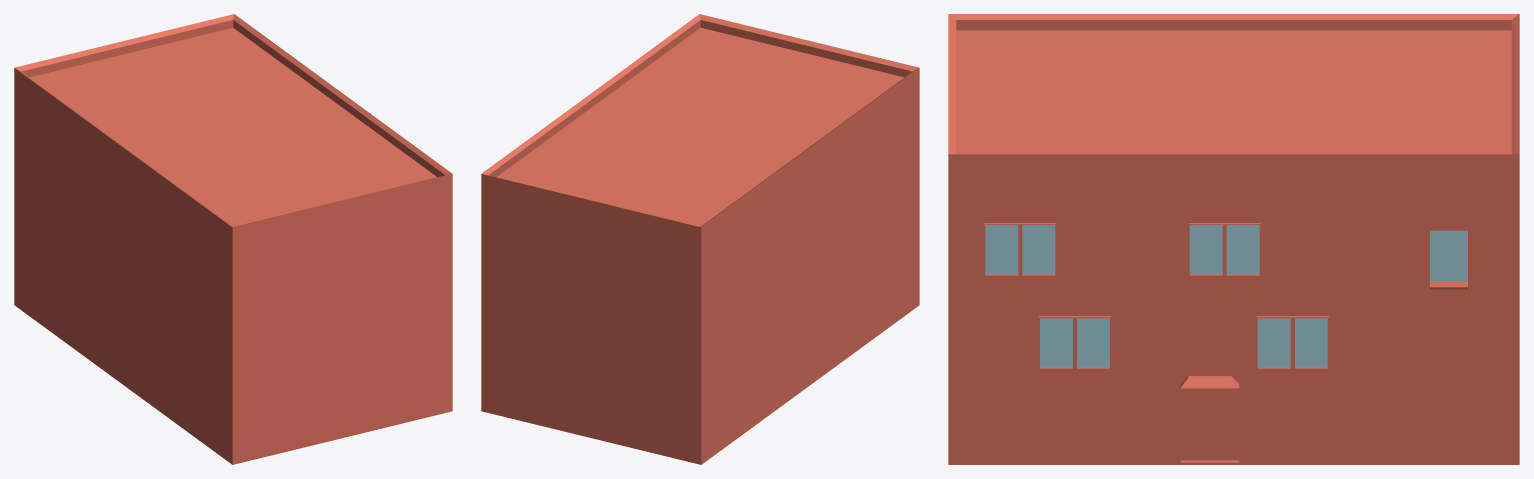
The model's file is Batiment_2.fbx.
The picture shows the model from 3 angles, left to right: view 1: azimuth 30°, elevation 25°; view 2: azimuth 150°, elevation 25°; view 3: azimuth 270°, elevation 25°; orthographic projection. The views are drawn at different scales.
Parts seen in each view (by area): view 1: Batiment2; view 2: Batiment2; view 3: Batiment2.
Boxes of the visible parts, box(x1,y1,x2,y2) form: Batiment2: box(14, 14, 452, 464); Batiment2: box(481, 14, 919, 464); Batiment2: box(948, 14, 1519, 464).
Size of the model in its own units: 600 by 600 by 1000.
